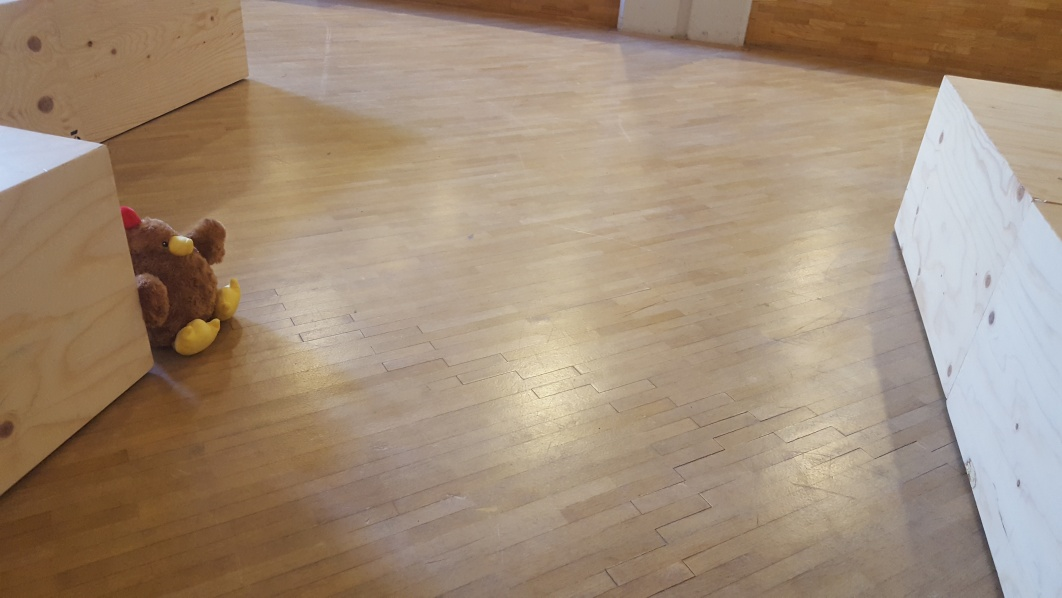chicken: (115, 202, 244, 355)
